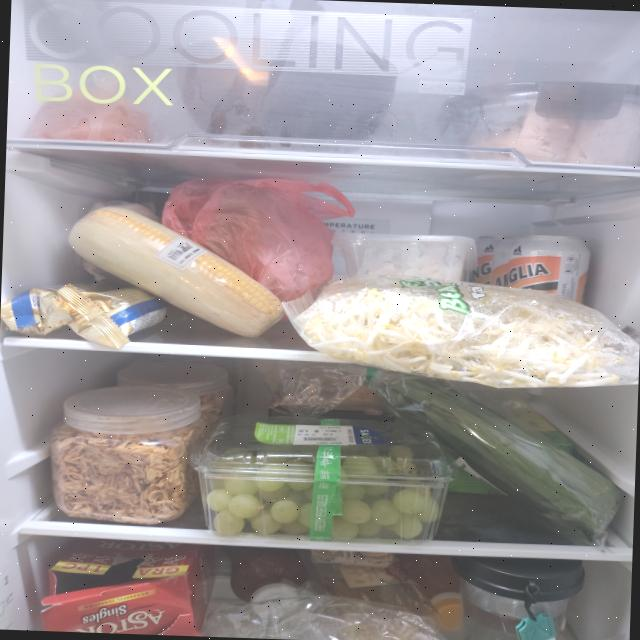bean_sprouts: (299, 270, 640, 392)
corn: (63, 204, 289, 339)
grape: (205, 437, 442, 542)
leafy_greens: (370, 370, 628, 540)
unknown_bag: (158, 174, 358, 306)
